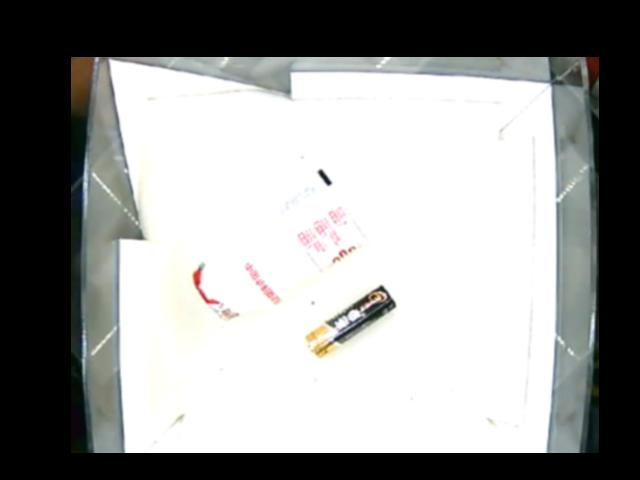Battery: (305, 284, 394, 355)
Bottle: (191, 163, 370, 322)
